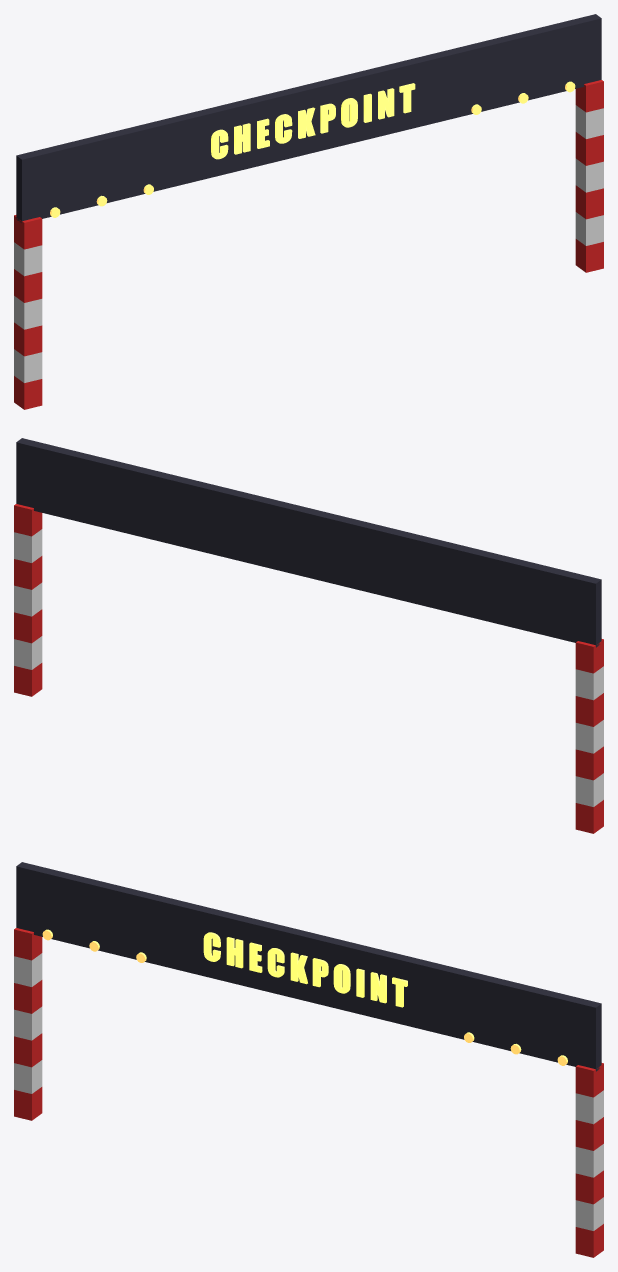
Rendered from gantry_check.glb.
The picture shows the model from 3 angles, top to bottom: view 1: azimuth 30°, elevation 25°; view 2: azimuth 150°, elevation 25°; view 3: azimuth 330°, elevation 25°; orthographic projection.
Visible parts, largest first — view 1: banner, txt, p.006, p.002, p, p.001, p.003, p.010, p.012, p.004, p.009, p.011 (+5 smaller); view 2: banner, p.006, p.002, p, p.001, p.003, p.010, p.012, p.004, p.009, p.011, p.005 (+3 smaller); view 3: banner, txt, p.013, p.009, p.007, p.008, p.003, p.005, p.010, p.002, p.011, p.004 (+5 smaller).
Part boxes in pixels (x1=…): banner: x1=16, y1=14, x2=601, y2=222; txt: x1=211, y1=83, x2=415, y2=159; p.006: x1=14, y1=215, x2=42, y2=249; p.002: x1=14, y1=322, x2=42, y2=356; p: x1=14, y1=376, x2=42, y2=409; p.001: x1=14, y1=349, x2=42, y2=382; p.003: x1=14, y1=296, x2=42, y2=329; p.010: x1=575, y1=158, x2=603, y2=192; p.012: x1=575, y1=105, x2=603, y2=138; p.004: x1=14, y1=269, x2=42, y2=302; p.009: x1=575, y1=185, x2=603, y2=219; p.011: x1=575, y1=132, x2=603, y2=165; banner: x1=16, y1=438, x2=601, y2=647; p.006: x1=575, y1=639, x2=603, y2=673; p.002: x1=575, y1=746, x2=603, y2=780; p: x1=575, y1=800, x2=603, y2=833; p.001: x1=575, y1=773, x2=603, y2=806; p.003: x1=575, y1=720, x2=603, y2=753; p.010: x1=14, y1=582, x2=42, y2=616; p.012: x1=14, y1=529, x2=42, y2=562; p.004: x1=575, y1=693, x2=603, y2=726; p.009: x1=14, y1=609, x2=42, y2=643; p.011: x1=14, y1=556, x2=42, y2=589; p.005: x1=575, y1=666, x2=603, y2=700; banner: x1=16, y1=862, x2=601, y2=1071; txt: x1=203, y1=932, x2=407, y2=1007; p.013: x1=575, y1=1063, x2=603, y2=1097; p.009: x1=575, y1=1170, x2=603, y2=1204; p.007: x1=575, y1=1224, x2=603, y2=1257; p.008: x1=575, y1=1197, x2=603, y2=1230; p.003: x1=14, y1=1006, x2=42, y2=1040; p.005: x1=14, y1=953, x2=42, y2=986; p.010: x1=575, y1=1144, x2=603, y2=1177; p.002: x1=14, y1=1033, x2=42, y2=1067; p.011: x1=575, y1=1117, x2=603, y2=1150; p.004: x1=14, y1=980, x2=42, y2=1013.
Size of the model in its own units: 22.7 by 9.3 by 0.7.
